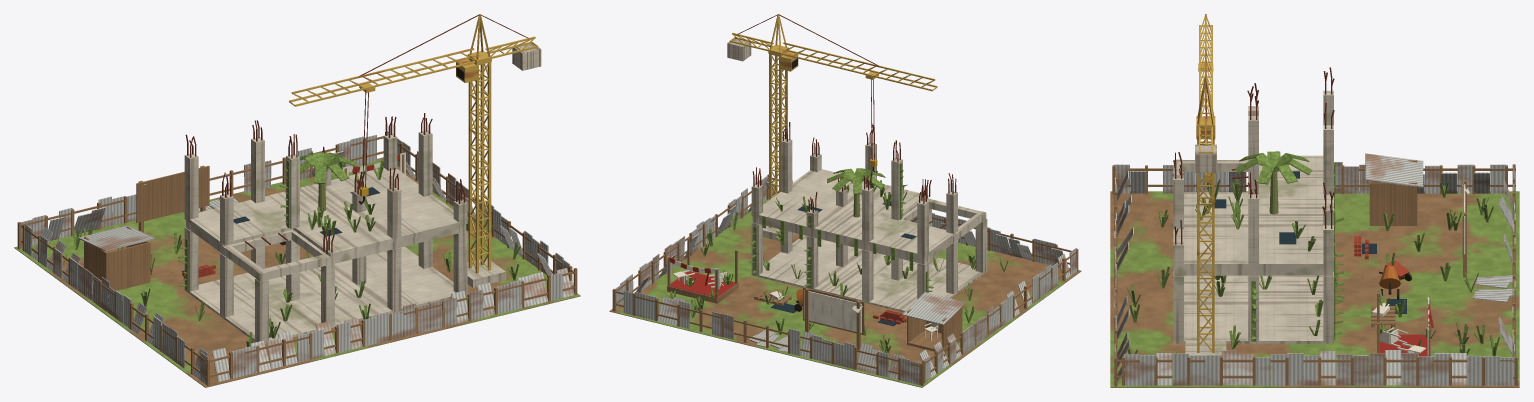
File: proyek_mangkrak.fbx
3 renders of one model, left to right at view 1: azimuth 30°, elevation 25°; view 2: azimuth 150°, elevation 25°; view 3: azimuth 270°, elevation 25°, orthographic. The views are drawn at different scales.
Visible parts, largest first — view 1: ProyekMangkrak_Beton, ProyekMangkrak_Seng, ProyekMangkrak_Tanah, ProyekMangkrak_Kayu, ProyekMangkrak_Crane, ProyekMangkrak_Daun, ProyekMangkrak_Besi, ProyekMangkrak_Warna; view 2: ProyekMangkrak_Beton, ProyekMangkrak_Tanah, ProyekMangkrak_Seng, ProyekMangkrak_Kayu, ProyekMangkrak_Daun, ProyekMangkrak_Crane, ProyekMangkrak_Warna, ProyekMangkrak_Besi, ProyekMangkrak_PapanProyek; view 3: ProyekMangkrak_Tanah, ProyekMangkrak_Beton, ProyekMangkrak_Seng, ProyekMangkrak_Kayu, ProyekMangkrak_Daun, ProyekMangkrak_Crane, ProyekMangkrak_Warna, ProyekMangkrak_Besi.
Boxes of the visible parts, <box> form: ProyekMangkrak_Beton: <box>184,43,541,343</box>; ProyekMangkrak_Seng: <box>21,133,574,384</box>; ProyekMangkrak_Tanah: <box>14,157,580,387</box>; ProyekMangkrak_Kayu: <box>17,131,577,385</box>; ProyekMangkrak_Crane: <box>289,14,538,273</box>; ProyekMangkrak_Daun: <box>62,152,520,346</box>; ProyekMangkrak_Besi: <box>185,14,528,254</box>; ProyekMangkrak_Warna: <box>143,44,539,278</box>; ProyekMangkrak_Beton: <box>727,38,987,312</box>; ProyekMangkrak_Tanah: <box>609,199,1081,387</box>; ProyekMangkrak_Seng: <box>615,175,1076,385</box>; ProyekMangkrak_Kayu: <box>612,174,1078,385</box>; ProyekMangkrak_Daun: <box>669,163,1008,355</box>; ProyekMangkrak_Crane: <box>729,14,937,230</box>; ProyekMangkrak_Warna: <box>667,40,938,340</box>; ProyekMangkrak_Besi: <box>737,14,956,228</box>; ProyekMangkrak_PapanProyek: <box>804,290,861,333</box>; ProyekMangkrak_Tanah: <box>1110,191,1519,387</box>; ProyekMangkrak_Beton: <box>1173,90,1333,366</box>; ProyekMangkrak_Seng: <box>1114,153,1515,385</box>; ProyekMangkrak_Kayu: <box>1112,160,1517,386</box>; ProyekMangkrak_Daun: <box>1126,151,1499,356</box>; ProyekMangkrak_Crane: <box>1196,14,1215,352</box>; ProyekMangkrak_Warna: <box>1203,147,1469,365</box>; ProyekMangkrak_Besi: <box>1172,49,1334,244</box>.
Bounding box in the file's own units: 68 × 45.56 × 60.
9 materials, 9 textured.
